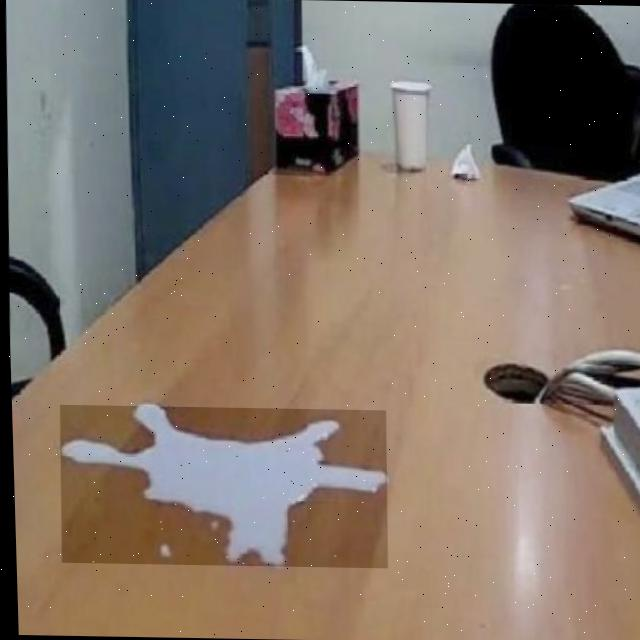spillage: (58, 406, 383, 566)
